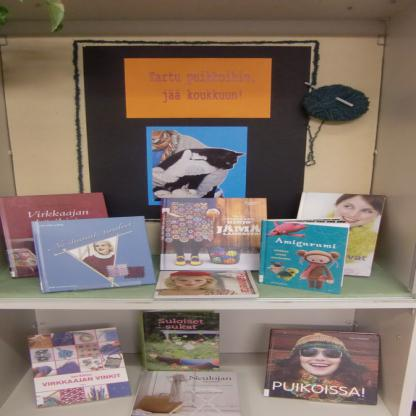book: (26, 214, 158, 296), (0, 192, 115, 279), (26, 321, 134, 412), (262, 328, 386, 403), (160, 198, 268, 272), (297, 189, 384, 277), (252, 220, 352, 294), (126, 369, 244, 416), (140, 310, 220, 373), (156, 264, 265, 302)
